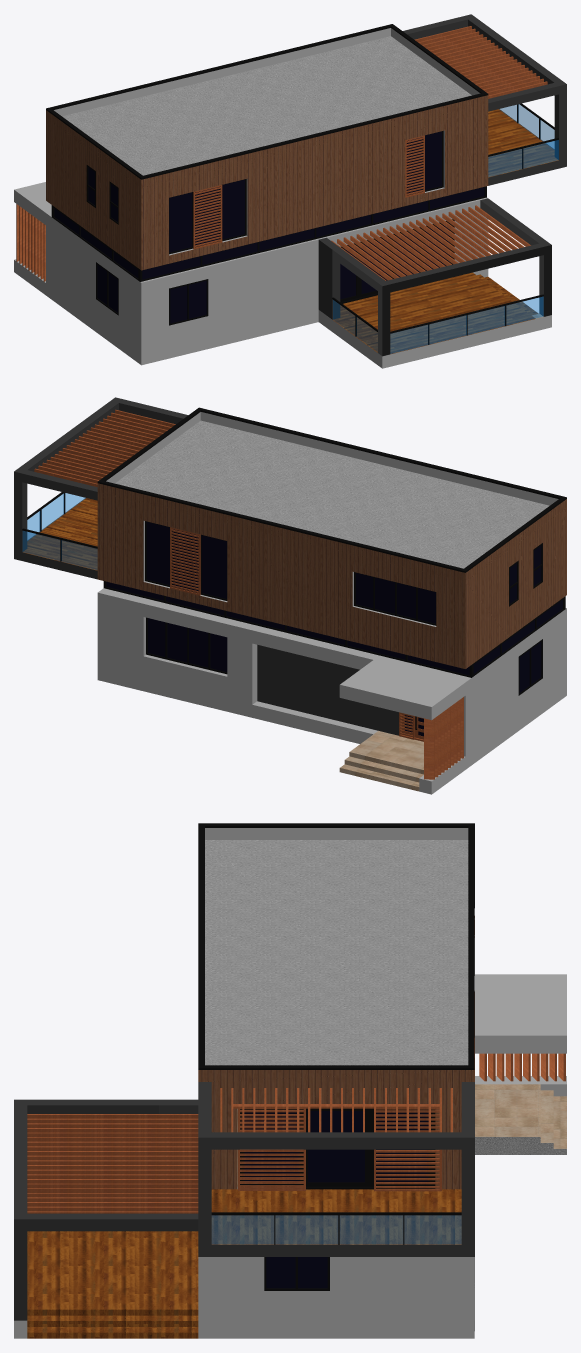
Rendered from Modern House_9_fbx.FBX.
The picture shows the model from 3 angles, top to bottom: view 1: azimuth 30°, elevation 25°; view 2: azimuth 150°, elevation 25°; view 3: azimuth 270°, elevation 25°; orthographic projection. The views are drawn at different scales.
Visible parts, largest first — view 1: WALL, ROOF, PERGOLA, FLOOR, WINDOW, RAIL, LOUVER, DOOR; view 2: WALL, ROOF, WINDOW, FLOOR, PERGOLA, LOUVER, RAIL, DOOR; view 3: ROOF, FLOOR, WALL, PERGOLA, LOUVER, RAIL, DOOR, WINDOW.
Part boxes in pixels (x1,y1,x2,y2): WALL: (14,24,488,352); ROOF: (62,36,471,175); PERGOLA: (331,14,566,356); FLOOR: (14,109,566,368); WINDOW: (51,131,486,325); RAIL: (332,103,558,353); LOUVER: (16,135,424,281); DOOR: (340,219,454,303); WALL: (97,407,566,756); ROOF: (115,420,549,568); WINDOW: (103,521,565,695); FLOOR: (14,498,566,794); PERGOLA: (14,397,187,552); LOUVER: (170,527,463,779); RAIL: (22,492,97,569); DOOR: (399,712,423,741); ROOF: (205,840,468,1065); FLOOR: (14,1076,566,1338); WALL: (159,823,566,1320); PERGOLA: (14,1082,474,1320); LOUVER: (233,1038,565,1191); RAIL: (211,1212,461,1244); DOOR: (240,1108,435,1189); WINDOW: (264,1257,329,1290).
Size of the model in its own units: 648 by 504 by 272.
10 materials, 5 textured.
